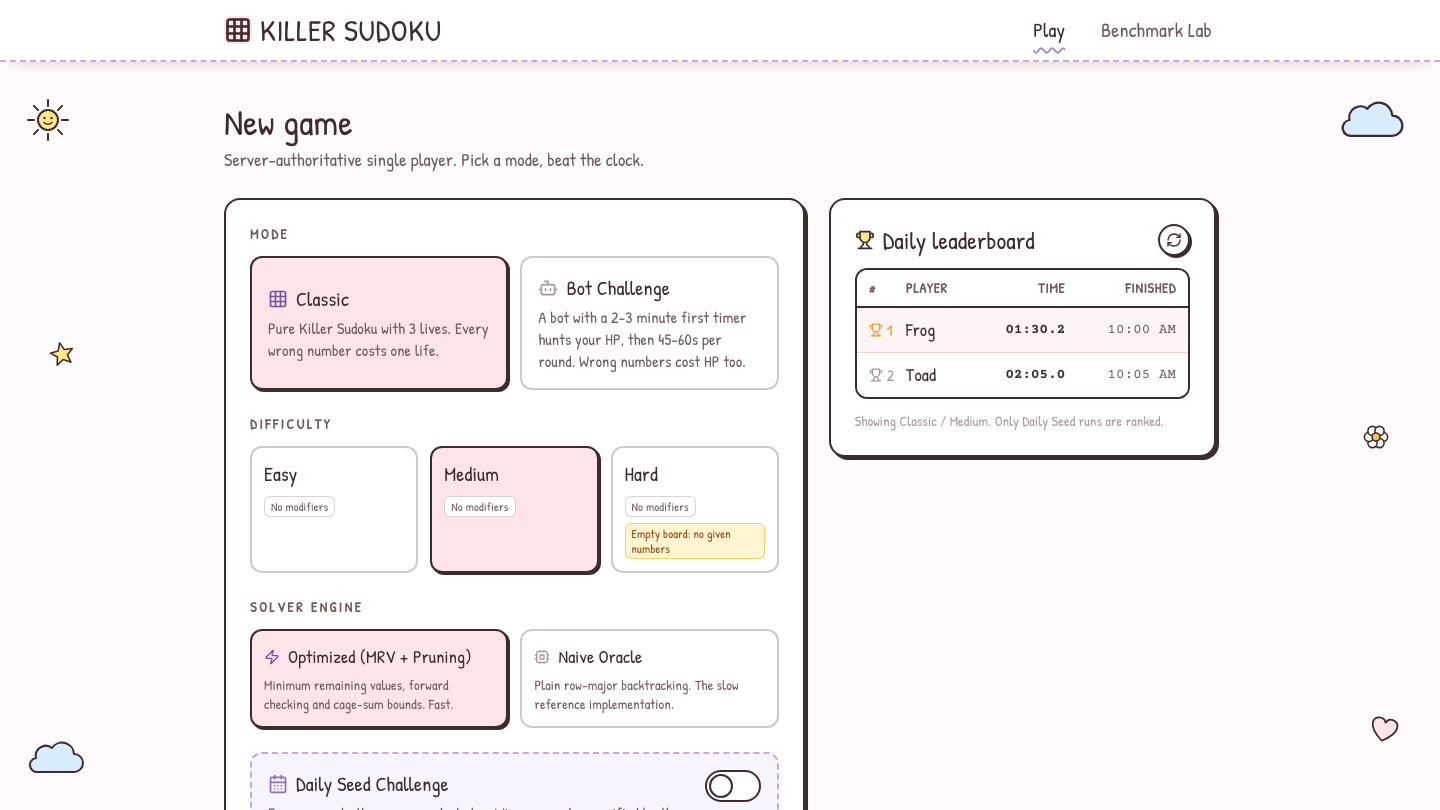
Test: Dashboard › blocks the daily challenge when the seed cannot be loaded but still allows normal play
Later steps or results of the test are not shown.
Click the switch named "Daily Seed Challenge" at (733, 786), box [705,770,761,802]
(page scrolled)
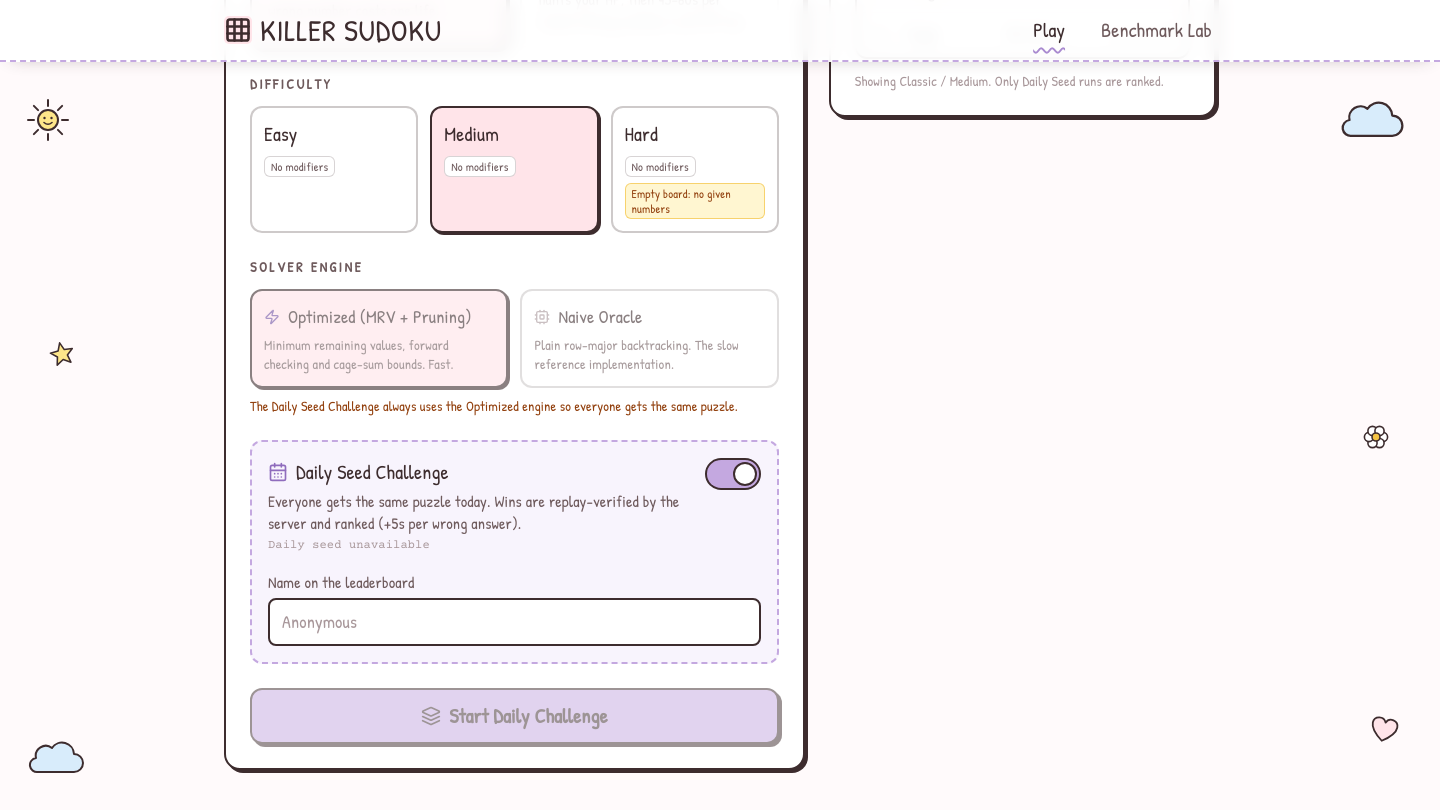
Check: the button "Start Daily Challenge" is disabled, box [250,688,779,744]
